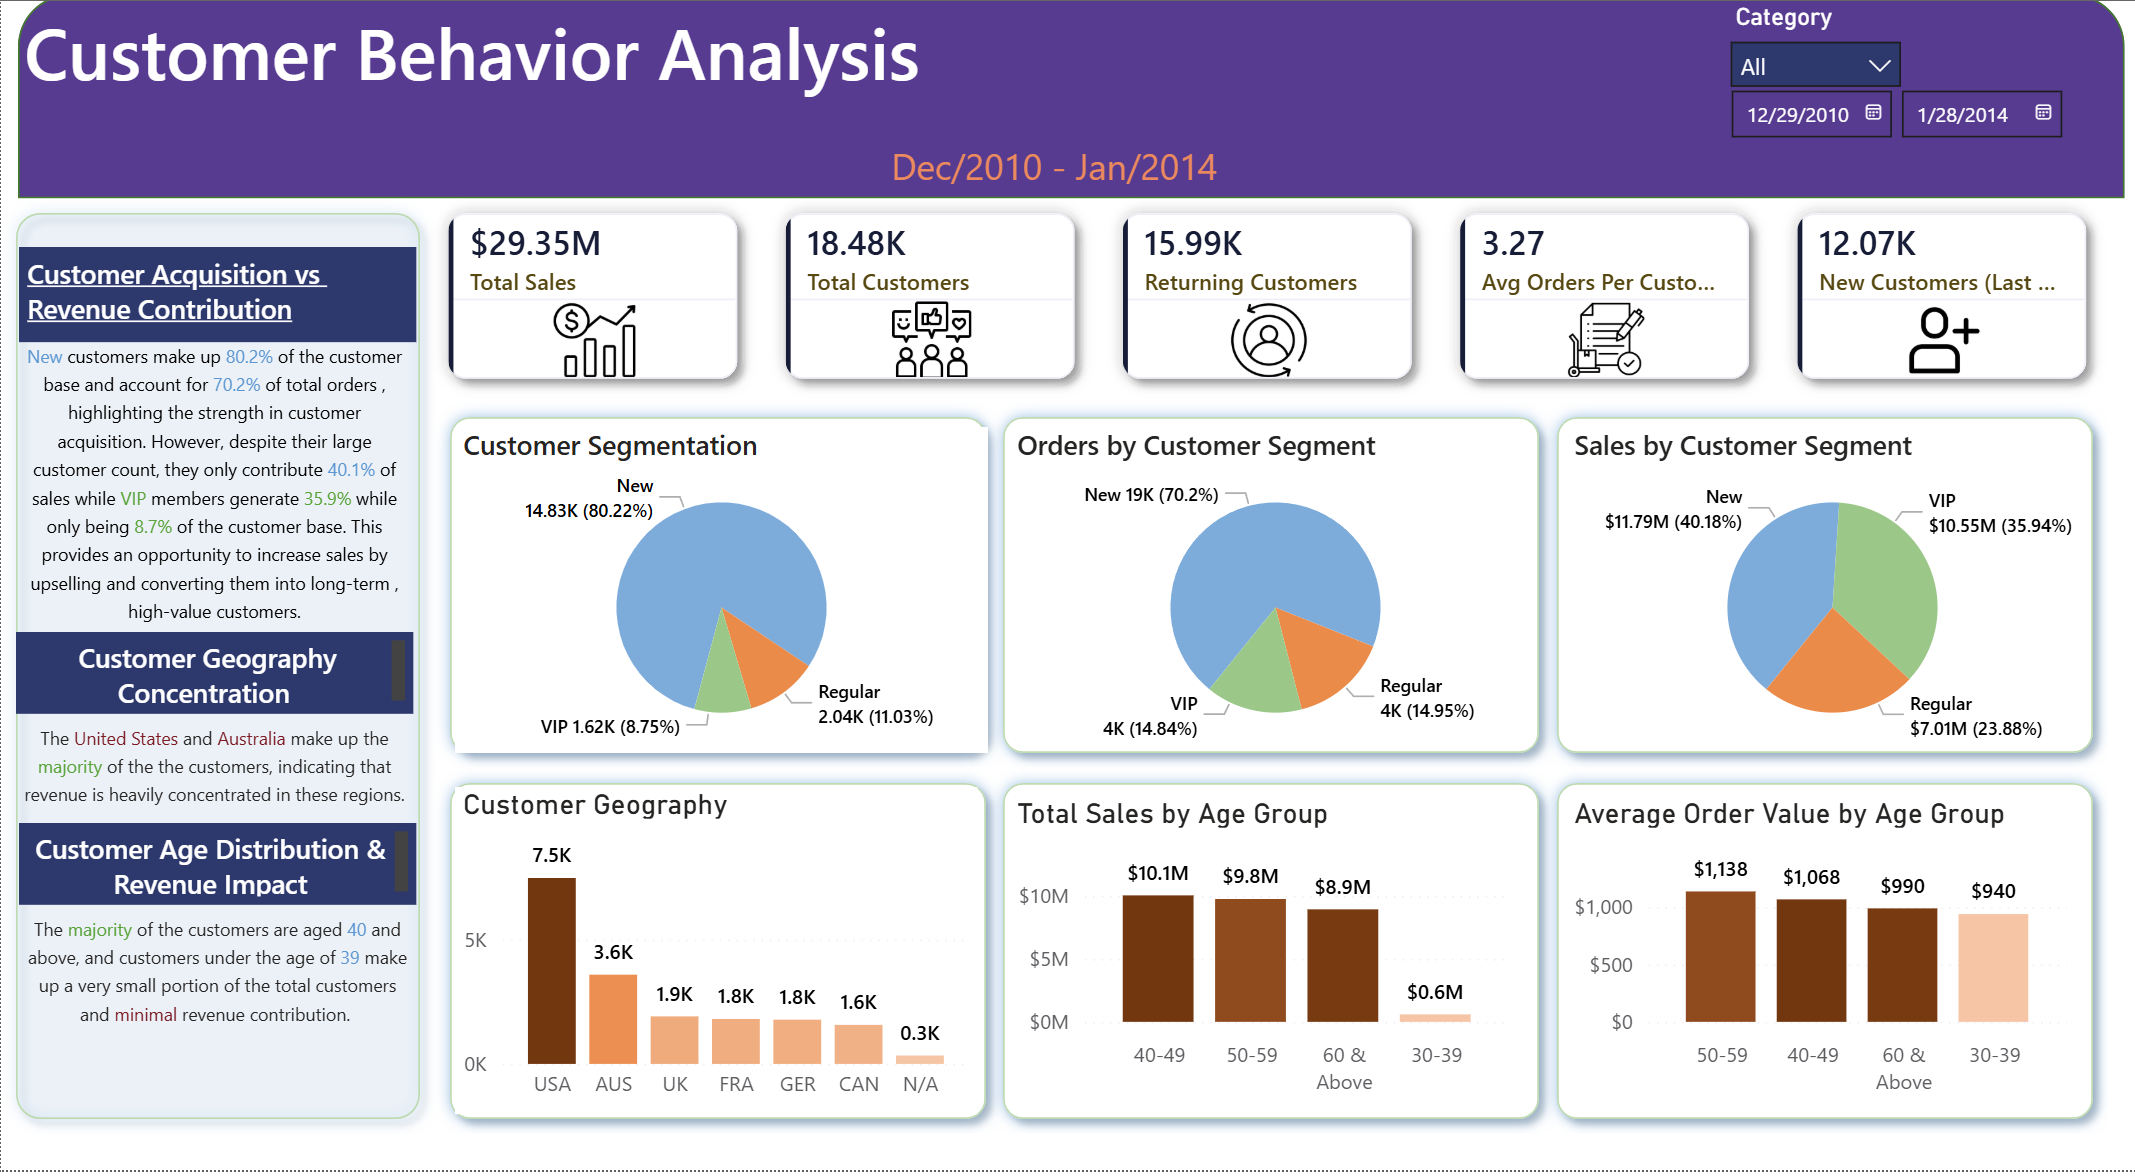

Layout of this report page (visuals, bound fields, positions):
{"tool":"powerbi","page":{"name":"Customer Insights","canvas":[1280,720],"ordinal":2},"visuals":[{"type":"shape","box":[0,137.8,260,560.7],"z":0},{"type":"shape","box":[923.1,479.2,339,219.2],"z":1000},{"type":"shape","box":[591.2,479.2,339,219.2],"z":2000},{"type":"shape","box":[260,479.2,339,219.2],"z":3000},{"type":"shape","box":[260,260,339,219.2],"z":4000},{"type":"shape","box":[923.1,260,339,219.2],"z":5000},{"type":"shape","box":[10,16.4,1261.8,121.8],"z":6000},{"type":"cardVisual","fields":{"Data":["sales.Total Sales","sales.Total Customers","sales.Returning Customers","sales.Avg Orders per Customer","sales.New Customers (Last 60 Days)"]},"box":[239,118,1041,157],"z":7000},{"type":"textbox","box":[9.1,16.4,1261.8,144.5],"z":8000},{"type":"textbox","box":[0,99.1,1261.8,61.8],"z":9000},{"type":"shape","box":[591.2,260,339,219.2],"z":10000},{"type":"textbox","box":[9,397.7,237.8,48.5],"z":11000},{"type":"textbox","box":[9,217.4,237.8,191.1],"z":12000},{"type":"textbox","box":[10.8,167.1,237.8,56.9],"z":13000},{"type":"textbox","box":[9,446.3,237.8,61.1],"z":14000},{"type":"slicer","title":"Category","fields":{"Values":["products.category"]},"box":[1026.1,16.2,122.2,56.3],"z":15000},{"type":"slicer","title":"Category","fields":{"Values":["sales.order_date"]},"box":[1023.7,63.5,219.8,70.1],"z":16000},{"type":"pieChart","title":"Customer Segmentation  ","fields":{"Category":["customer_report.cust_segmentation"],"Y":["CountNonNull(customers.customer_key)"]},"box":[271.9,274.9,319.3,195.3],"z":17000},{"type":"columnChart","title":"Customer Geography","fields":{"Category":["customers.Country Abbrev"],"Y":["CountNonNull(customer_report.customer_key)"]},"box":[271.9,490.6,313.3,195.9],"z":18000},{"type":"pieChart","title":"Orders by Customer Segment","fields":{"Category":["customer_report.cust_segmentation"],"Y":["sales.Total Orders"]},"box":[603.8,274.9,319.3,195.3],"z":19000},{"type":"pieChart","title":"Sales by Customer Segment","fields":{"Category":["customer_report.cust_segmentation"],"Y":["sales.Total Sales"]},"box":[937.4,274.9,319.3,195.3],"z":20000},{"type":"columnChart","title":"Total Sales by Age Group","fields":{"Category":["customer_report.age_group"],"Y":["sales.Total Sales"]},"box":[603.8,496,305.5,186.3],"z":21000},{"type":"columnChart","title":"Average Order Value by Age Group","fields":{"Category":["customer_report.age_group"],"Y":["sales.Avg Order Value"]},"box":[937.4,496,305.5,186.3],"z":22000},{"type":"textbox","box":[10.8,512.1,237.8,48.5],"z":23000},{"type":"textbox","box":[10.8,560.7,237.8,110.2],"z":24000}]}

Visuals, with their boxes in screenshot pixels (x1, y1, x2, y2), scaled from the page's 1280x720 canvas onto the 2135x1176 screenshot:
shape: [x1=0, y1=225, x2=434, y2=1141]
shape: [x1=1540, y1=783, x2=2105, y2=1141]
shape: [x1=986, y1=783, x2=1552, y2=1141]
shape: [x1=434, y1=783, x2=999, y2=1141]
shape: [x1=434, y1=425, x2=999, y2=783]
shape: [x1=1540, y1=425, x2=2105, y2=783]
shape: [x1=17, y1=27, x2=2121, y2=226]
cardVisual - sales.Total Sales x sales.Total Customers: [x1=399, y1=193, x2=2134, y2=449]
textbox: [x1=15, y1=27, x2=2120, y2=263]
textbox: [x1=0, y1=162, x2=2105, y2=263]
shape: [x1=986, y1=425, x2=1552, y2=783]
textbox: [x1=15, y1=650, x2=412, y2=729]
textbox: [x1=15, y1=355, x2=412, y2=667]
textbox: [x1=18, y1=273, x2=415, y2=366]
textbox: [x1=15, y1=729, x2=412, y2=829]
"Category" slicer: [x1=1712, y1=26, x2=1915, y2=118]
"Category" slicer: [x1=1707, y1=104, x2=2074, y2=218]
"Customer Segmentation  " pieChart: [x1=454, y1=449, x2=986, y2=768]
"Customer Geography" columnChart: [x1=454, y1=801, x2=976, y2=1121]
"Orders by Customer Segment" pieChart: [x1=1007, y1=449, x2=1540, y2=768]
"Sales by Customer Segment" pieChart: [x1=1564, y1=449, x2=2096, y2=768]
"Total Sales by Age Group" columnChart: [x1=1007, y1=810, x2=1517, y2=1114]
"Average Order Value by Age Group" columnChart: [x1=1564, y1=810, x2=2073, y2=1114]
textbox: [x1=18, y1=836, x2=415, y2=916]
textbox: [x1=18, y1=916, x2=415, y2=1096]
